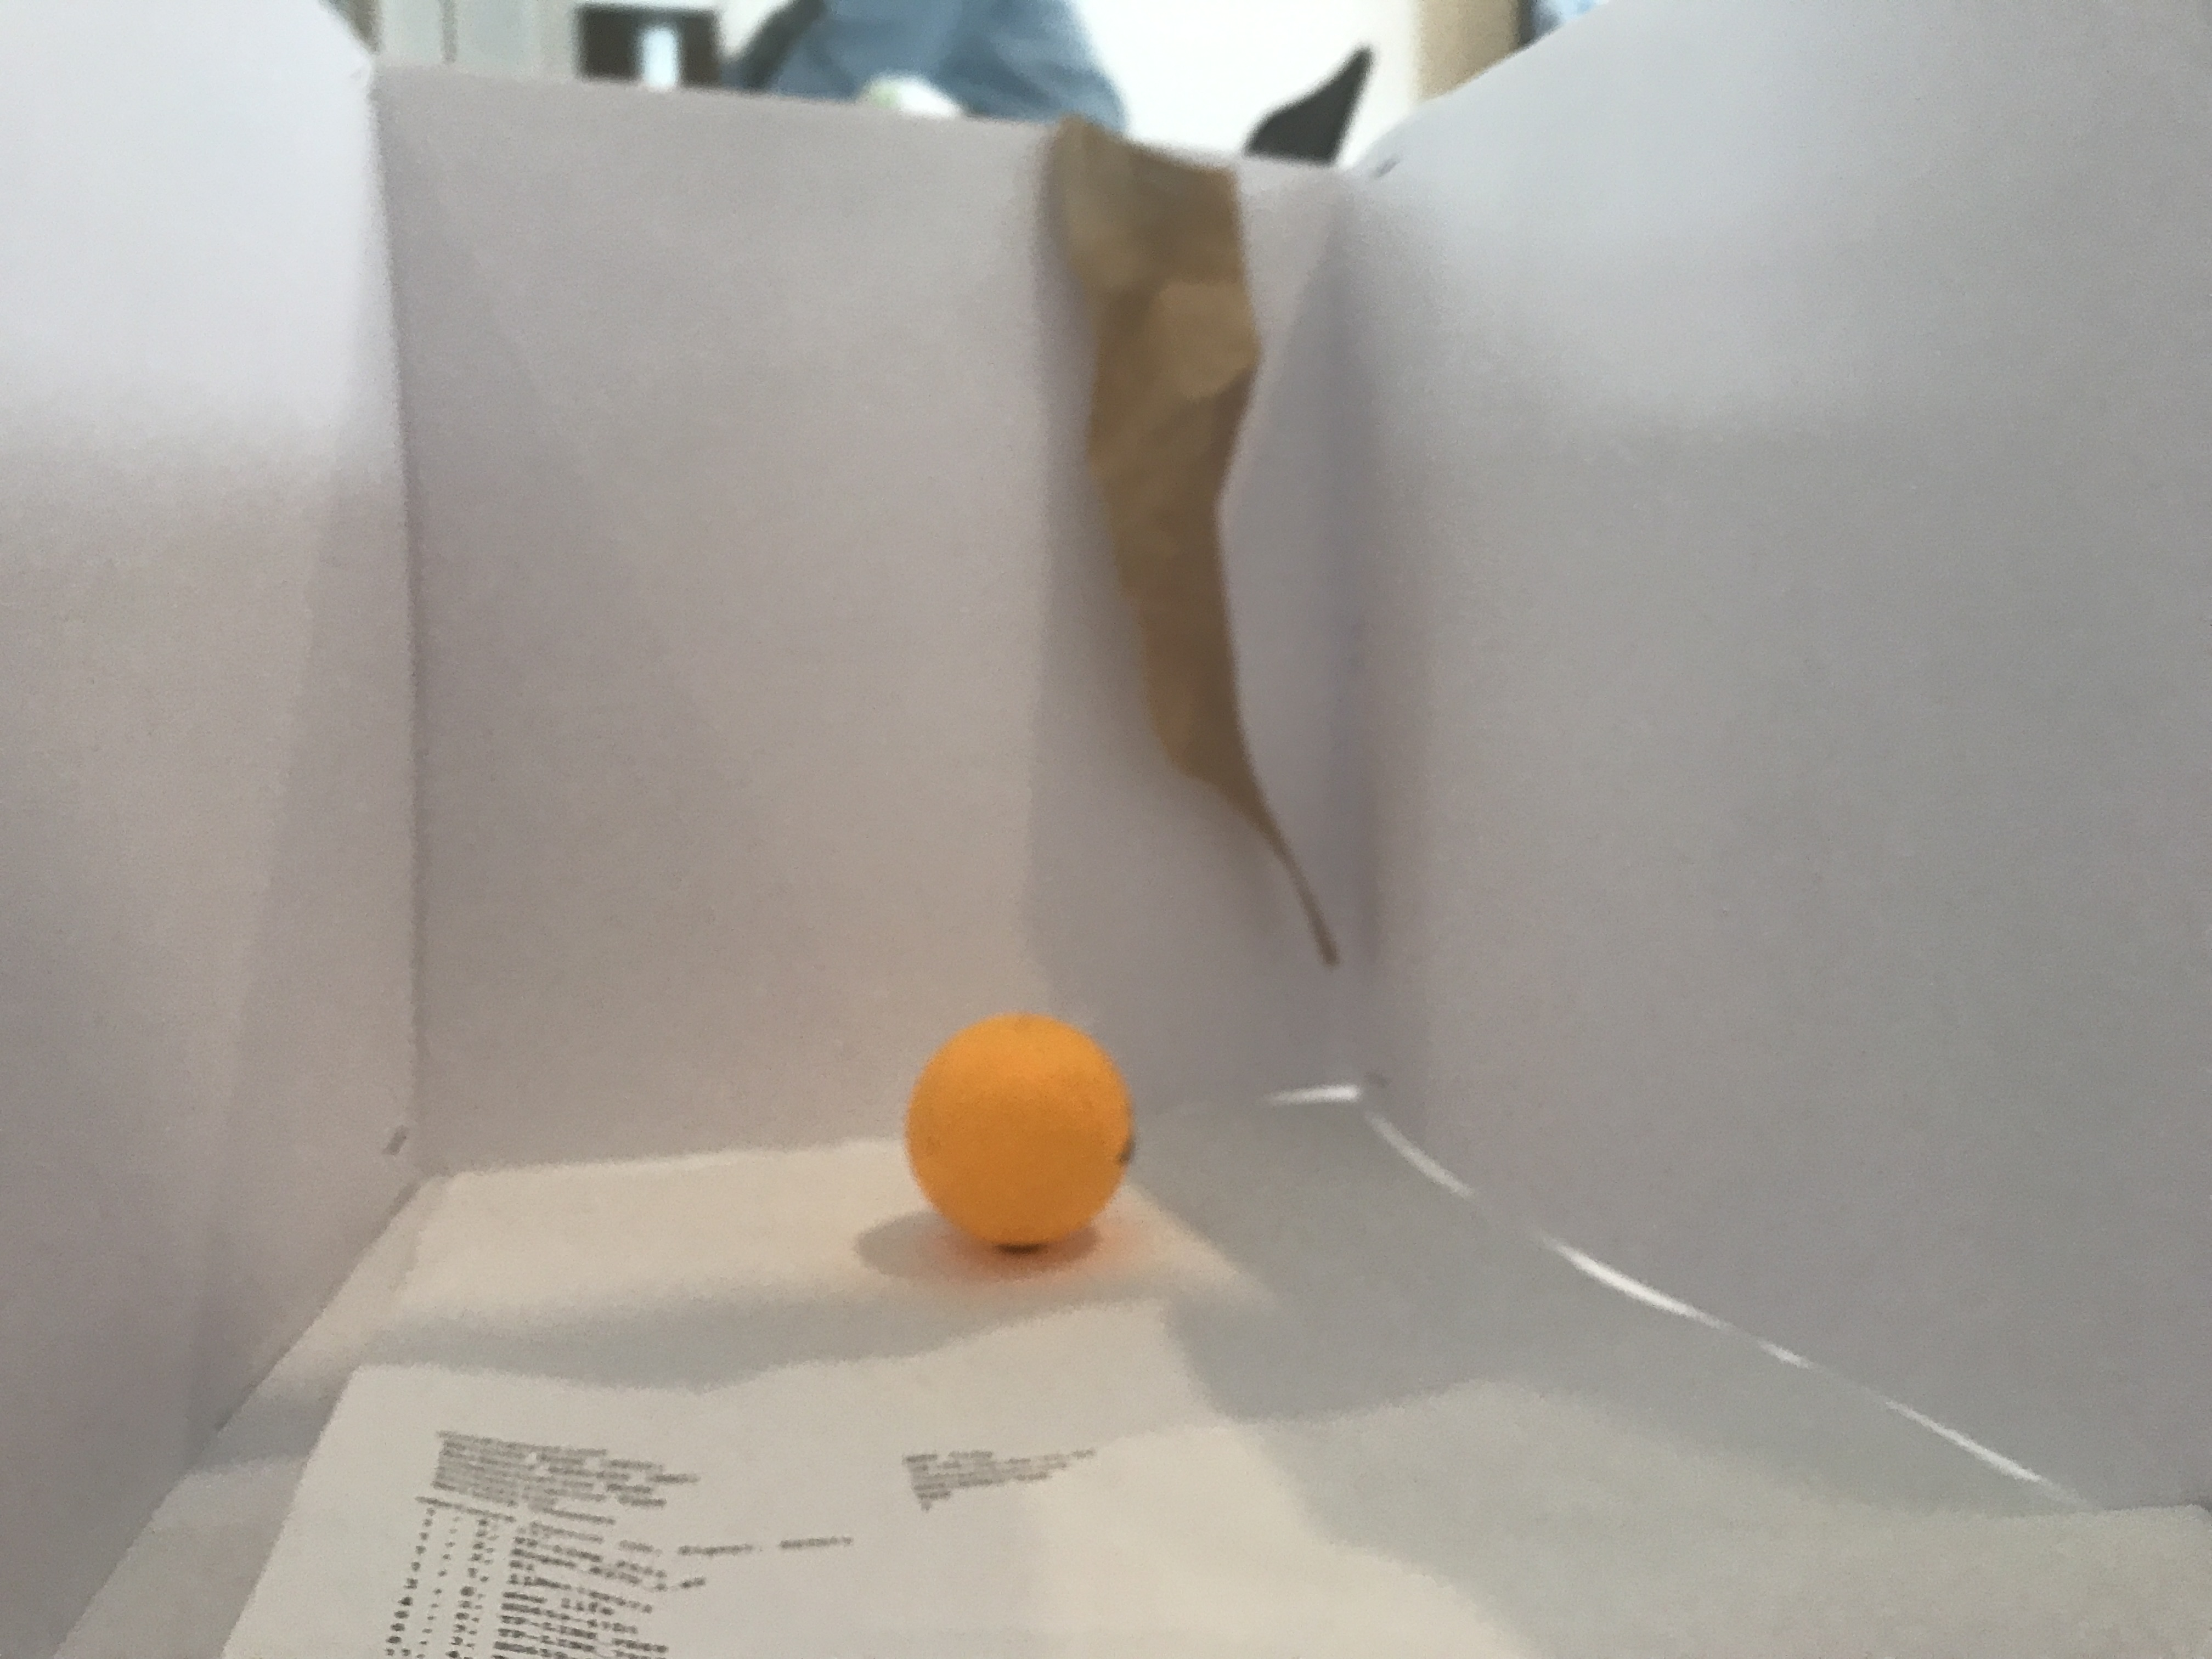pp: (899, 1006, 1134, 1255)
